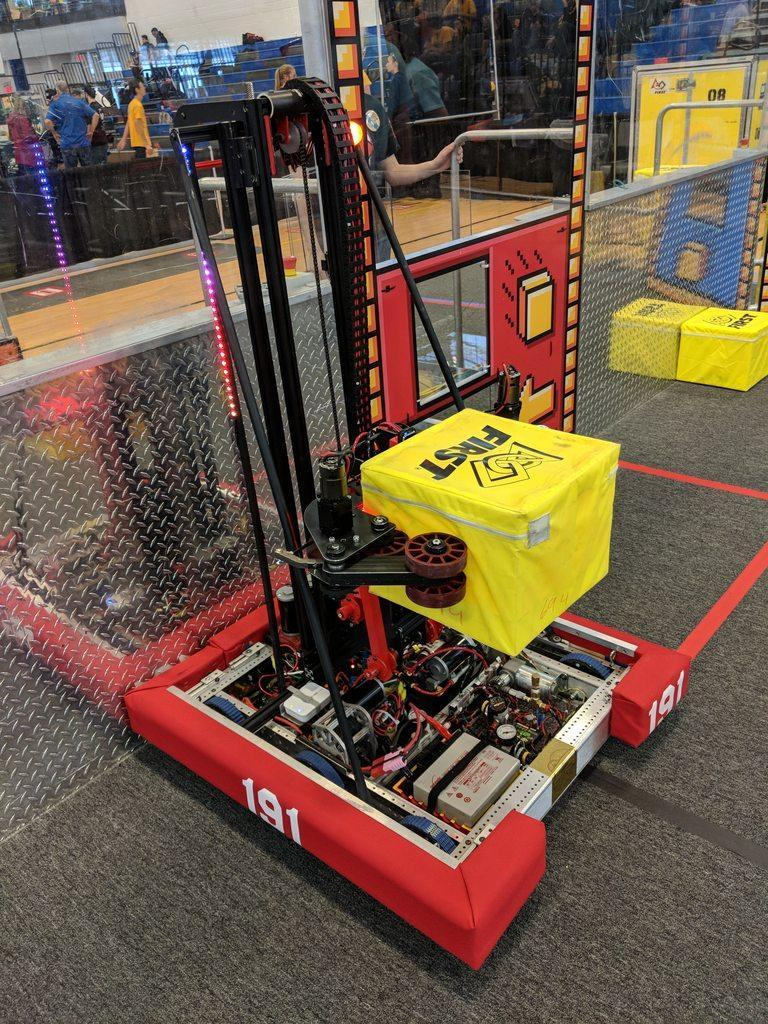robot: (117, 74, 696, 983)
